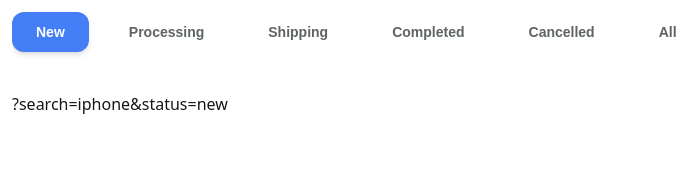
Test: OrderTabs › preserves other existing search parameters when changing tabs
Step 1. Click the button "Cancelled" → (562, 32), box [504,12,619,52]
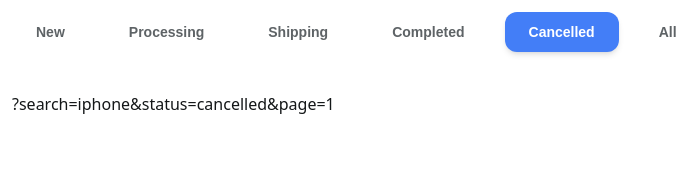
Expected: the text with test id "location-display" shows "search=iphone", [12,93,335,115]
Expected: the text with test id "location-display" shows "status=cancelled", [12,93,335,115]
